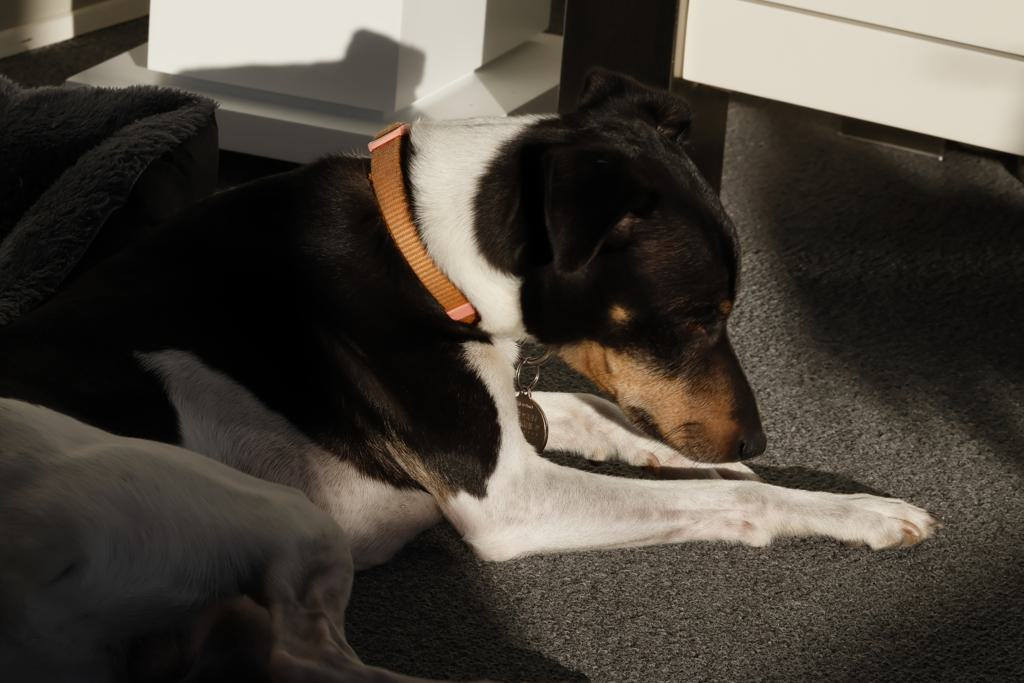Dog: (0, 58, 954, 683)
